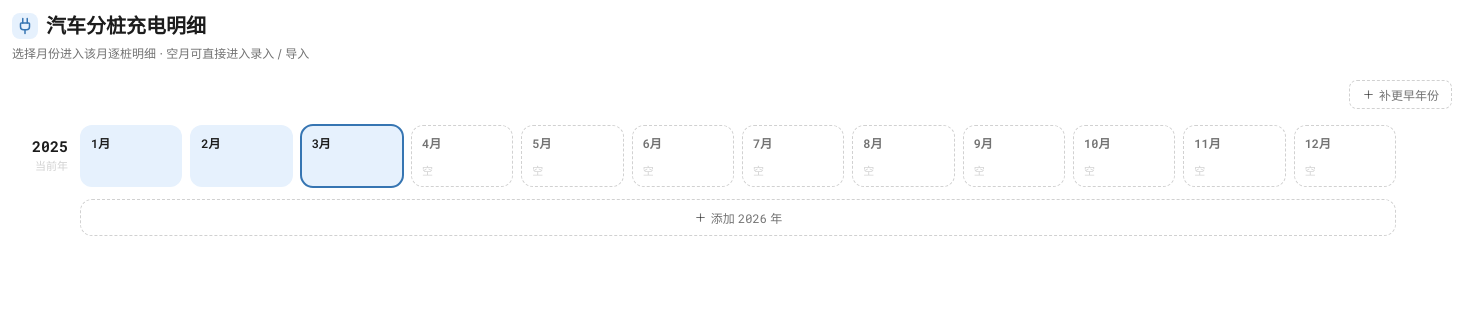
it: 分桩充电明细 · 取数失败时不许猜 › ❗桩档案的失败不许被「换月」抹掉
Click the button with class "bmm-card" showing "3月" at (352, 156), box [301,125,403,187]
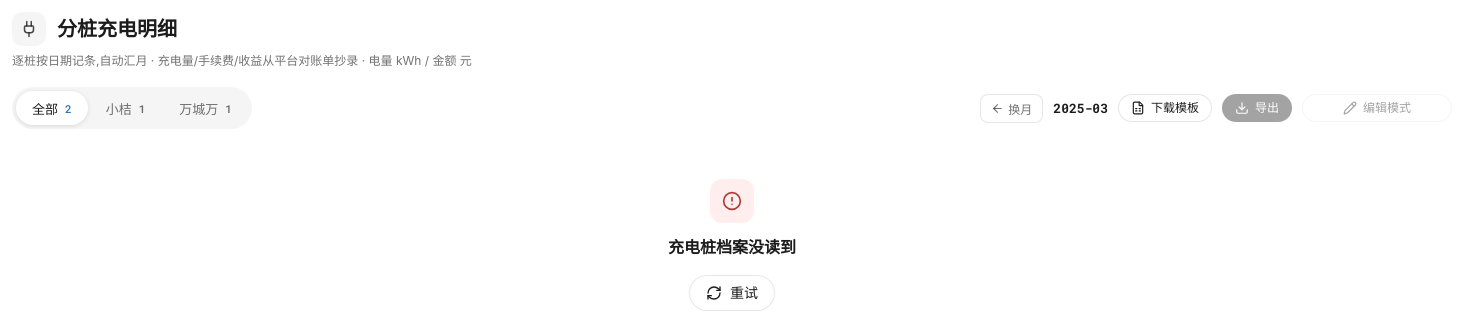
Result: the text "充电桩档案没读到" is shown at [668,235,796,259]
